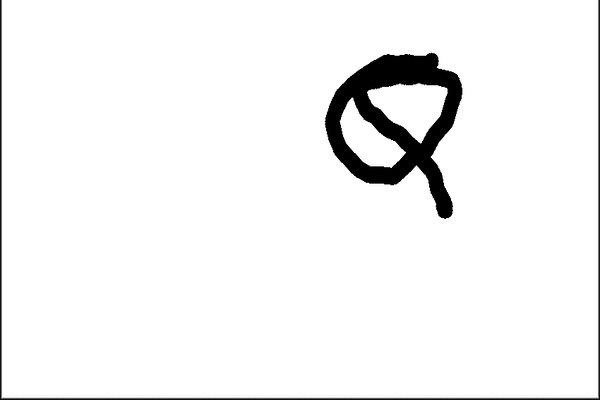Q: (317, 45, 464, 230)
